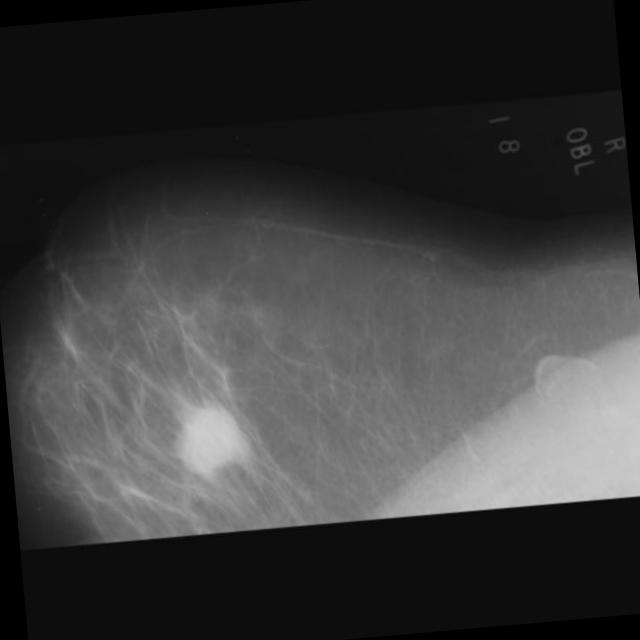CIRC: (168, 402, 244, 478)
